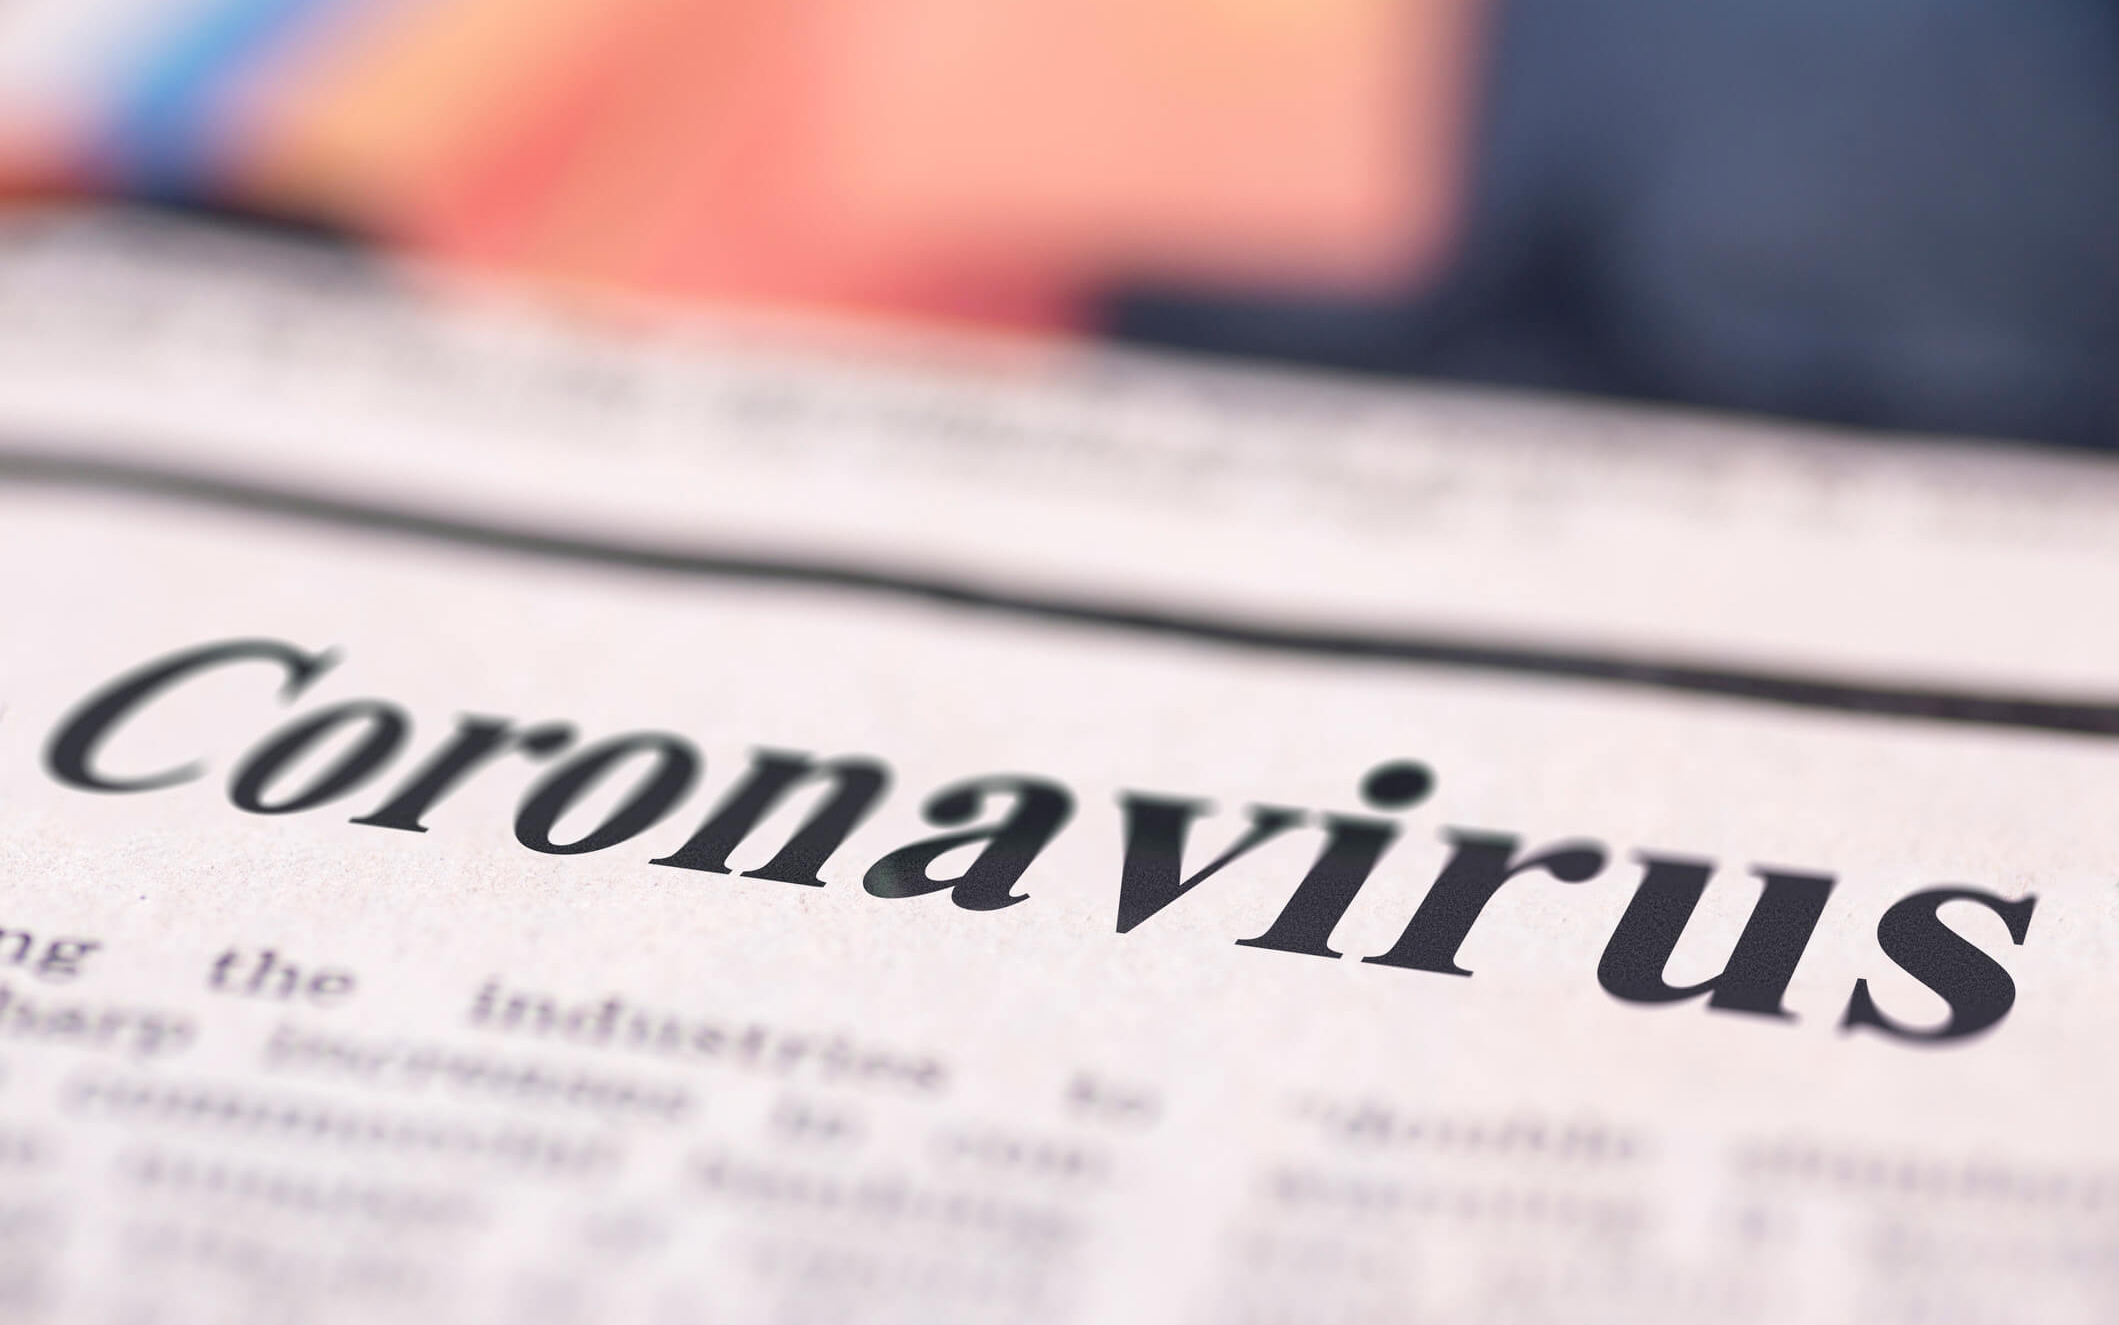news_paper: (2, 214, 2119, 1311)
